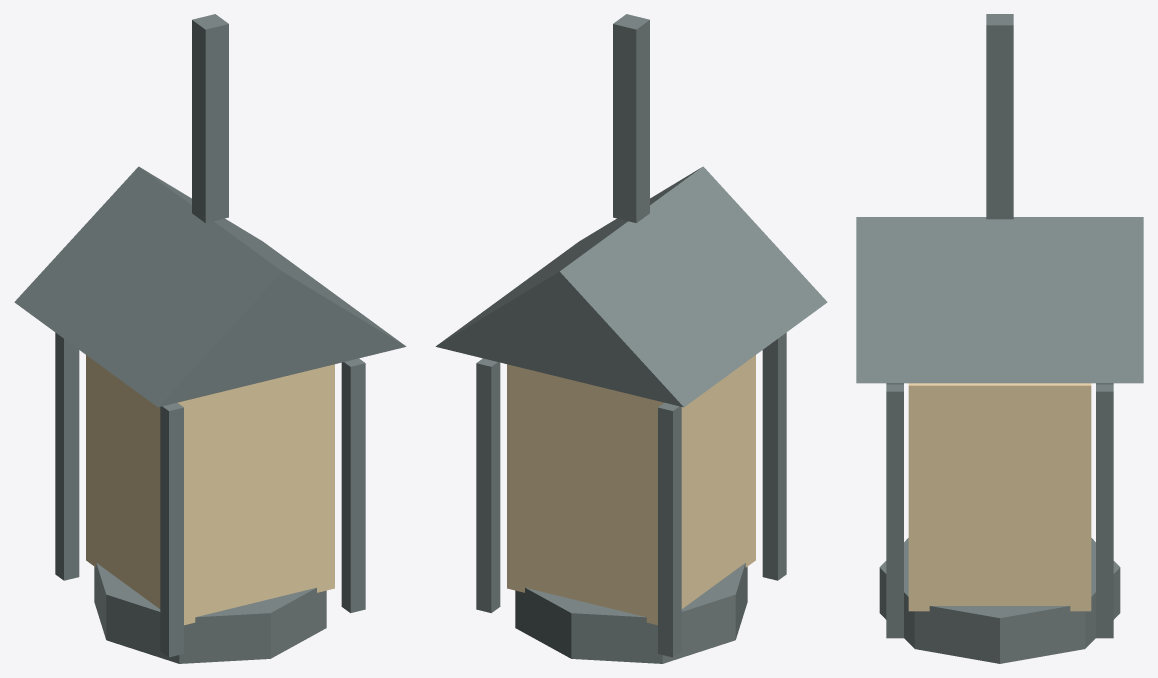
Rendered from hanging-lantern.glb.
3 renders of one model, left to right at view 1: azimuth 30°, elevation 25°; view 2: azimuth 150°, elevation 25°; view 3: azimuth 270°, elevation 25°, orthographic.
Visible parts, largest first — view 1: Lantern glass, Lantern roof, Lantern lower rim, Hanging hook, Lantern frame.002, Lantern frame, Lantern frame.001; view 2: Lantern glass, Lantern roof, Lantern lower rim, Hanging hook, Lantern frame.003, Lantern frame.001, Lantern frame; view 3: Lantern roof, Lantern glass, Lantern lower rim, Hanging hook, Lantern frame.002, Lantern frame.003.
Part boxes in pixels (left/top/right/bottom): Lantern glass: left=86, top=355, right=334, bottom=625; Lantern roof: left=14, top=166, right=406, bottom=407; Lantern lower rim: left=94, top=563, right=326, bottom=663; Hanging hook: left=192, top=14, right=228, bottom=223; Lantern frame.002: left=341, top=358, right=365, bottom=613; Lantern frame: left=160, top=402, right=183, bottom=657; Lantern frame.001: left=55, top=332, right=79, bottom=580; Lantern glass: left=507, top=355, right=755, bottom=625; Lantern roof: left=435, top=166, right=827, bottom=407; Lantern lower rim: left=515, top=563, right=747, bottom=663; Hanging hook: left=613, top=14, right=649, bottom=223; Lantern frame.003: left=476, top=358, right=500, bottom=613; Lantern frame.001: left=658, top=402, right=681, bottom=657; Lantern frame: left=762, top=332, right=786, bottom=580; Lantern roof: left=856, top=217, right=1143, bottom=383; Lantern glass: left=908, top=383, right=1091, bottom=611; Lantern lower rim: left=879, top=538, right=1120, bottom=663; Hanging hook: left=986, top=14, right=1013, bottom=219; Lantern frame.002: left=886, top=384, right=903, bottom=638; Lantern frame.003: left=1096, top=384, right=1113, bottom=638.
Bounding box in the file's own units: 0.74 × 1.68 × 0.74.
